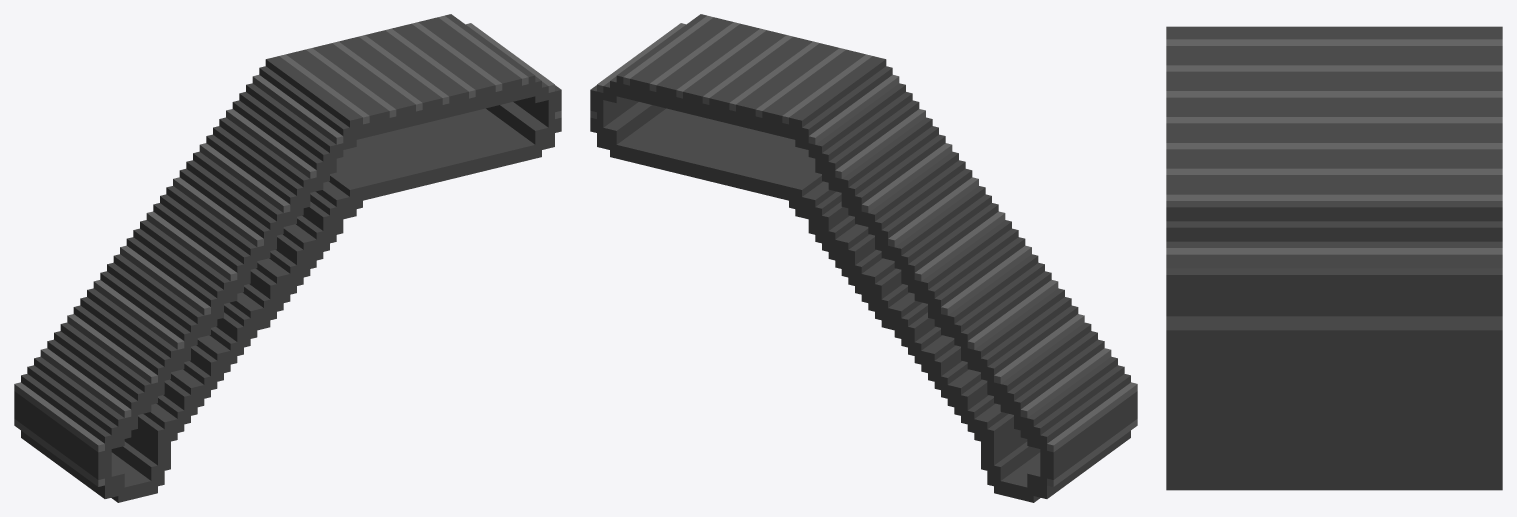
Rendered from ConveyorBelt1.obj.
3 views of the same model, side by side, from view 1: azimuth 30°, elevation 25°; view 2: azimuth 150°, elevation 25°; view 3: azimuth 270°, elevation 25° (orthographic). The views are drawn at different scales.
Size of the model in its own units: 7 by 4.7 by 2.2.
1 material, 1 textured.
